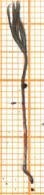flower: (5, 1, 29, 56)
root: (18, 103, 35, 191)
stem: (15, 54, 31, 104)
